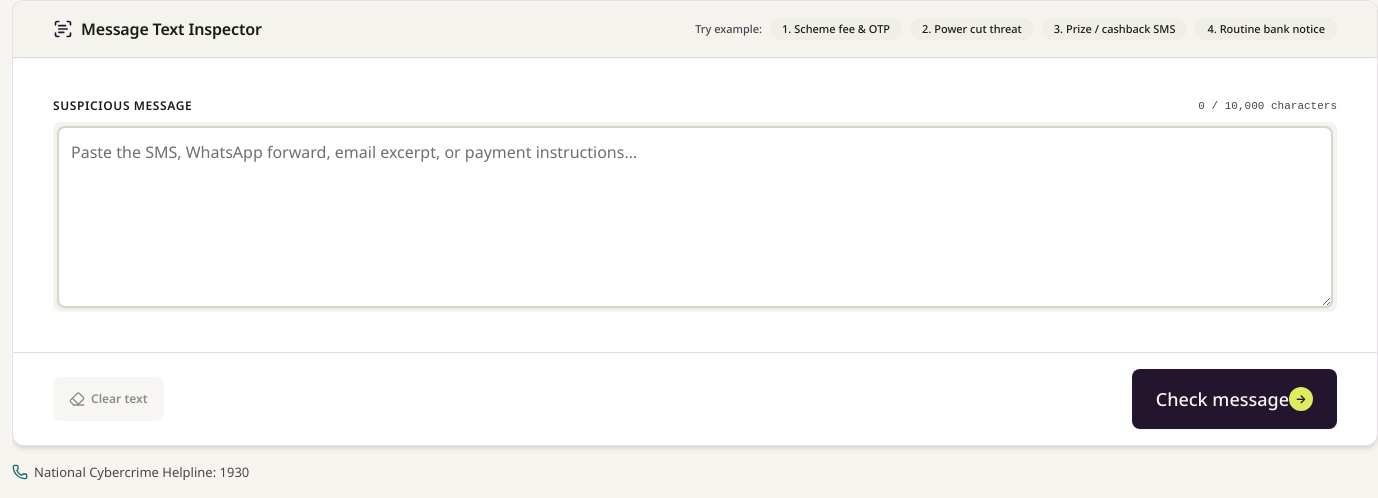
FraudChecker › shows loading state while checking
Step 1. Type "Test message" into the text box labelled "Suspicious message" → (695, 217), box [57, 126, 1333, 308]
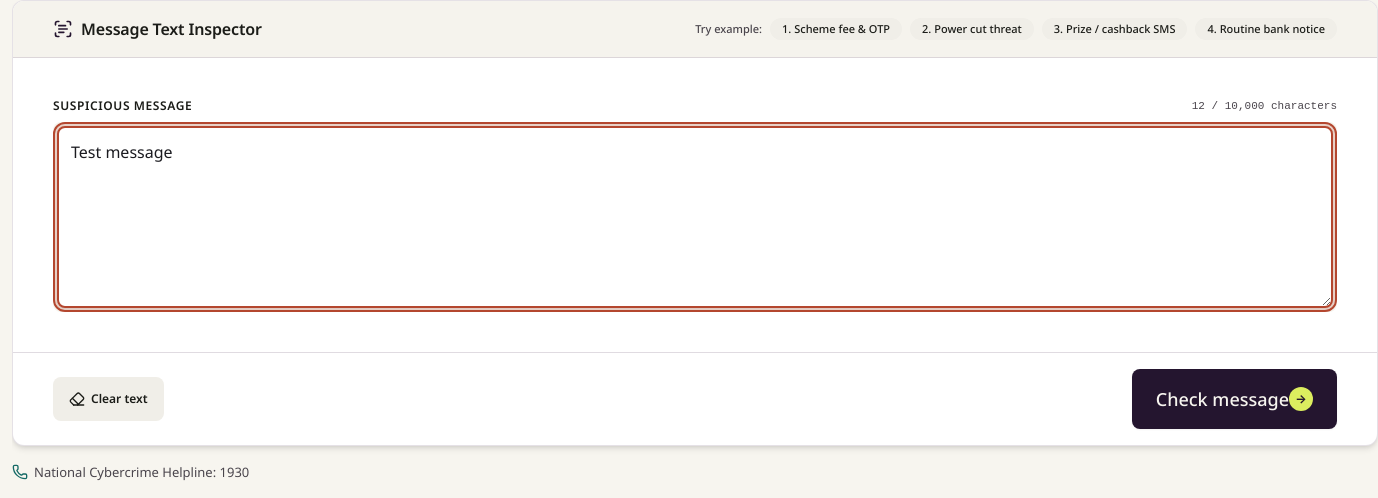
Step 2. Click the button "Check message →" → (1234, 399), box [1132, 369, 1337, 429]
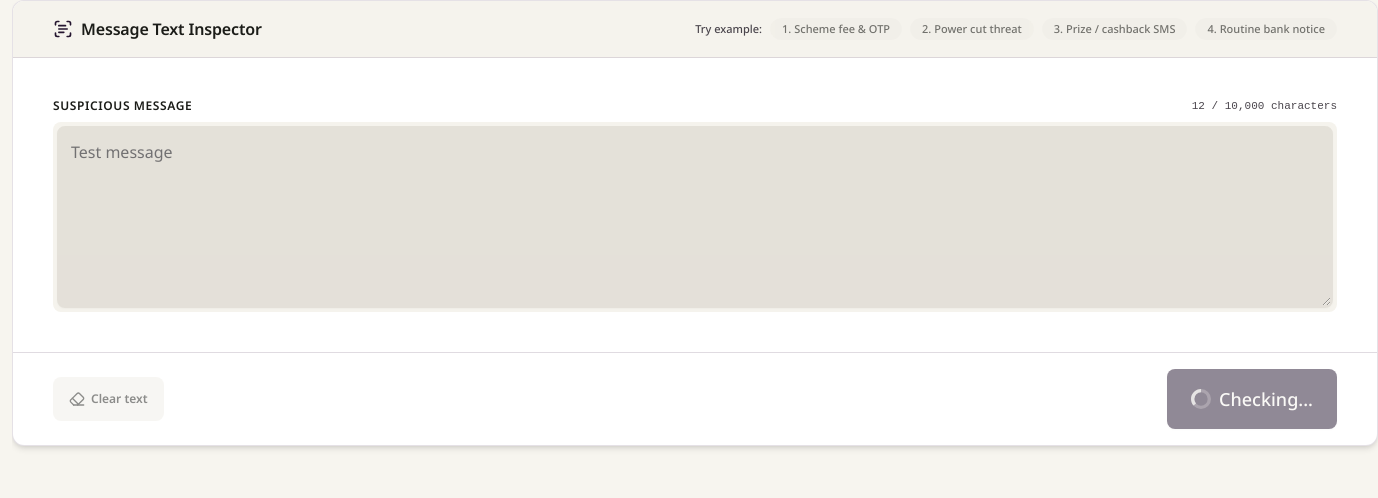
Check: the button "Checking..." is shown, box [1167, 369, 1337, 429]
